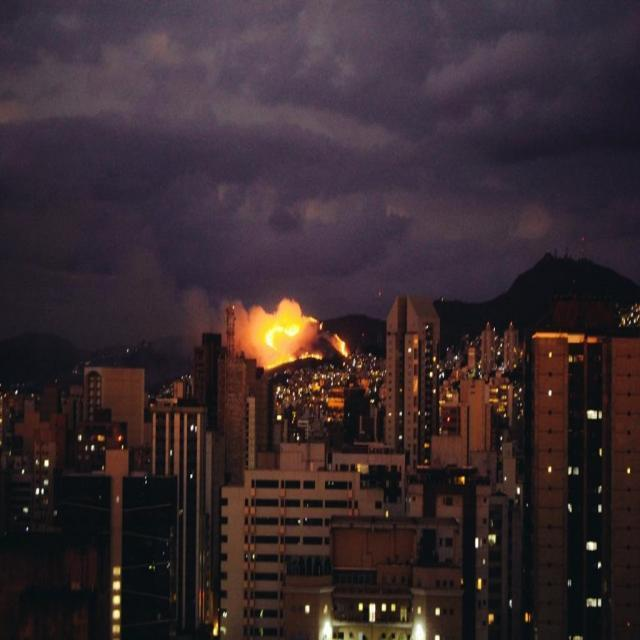Fire: (262, 320, 298, 348), (263, 353, 295, 371), (333, 332, 349, 360), (298, 352, 322, 359)
